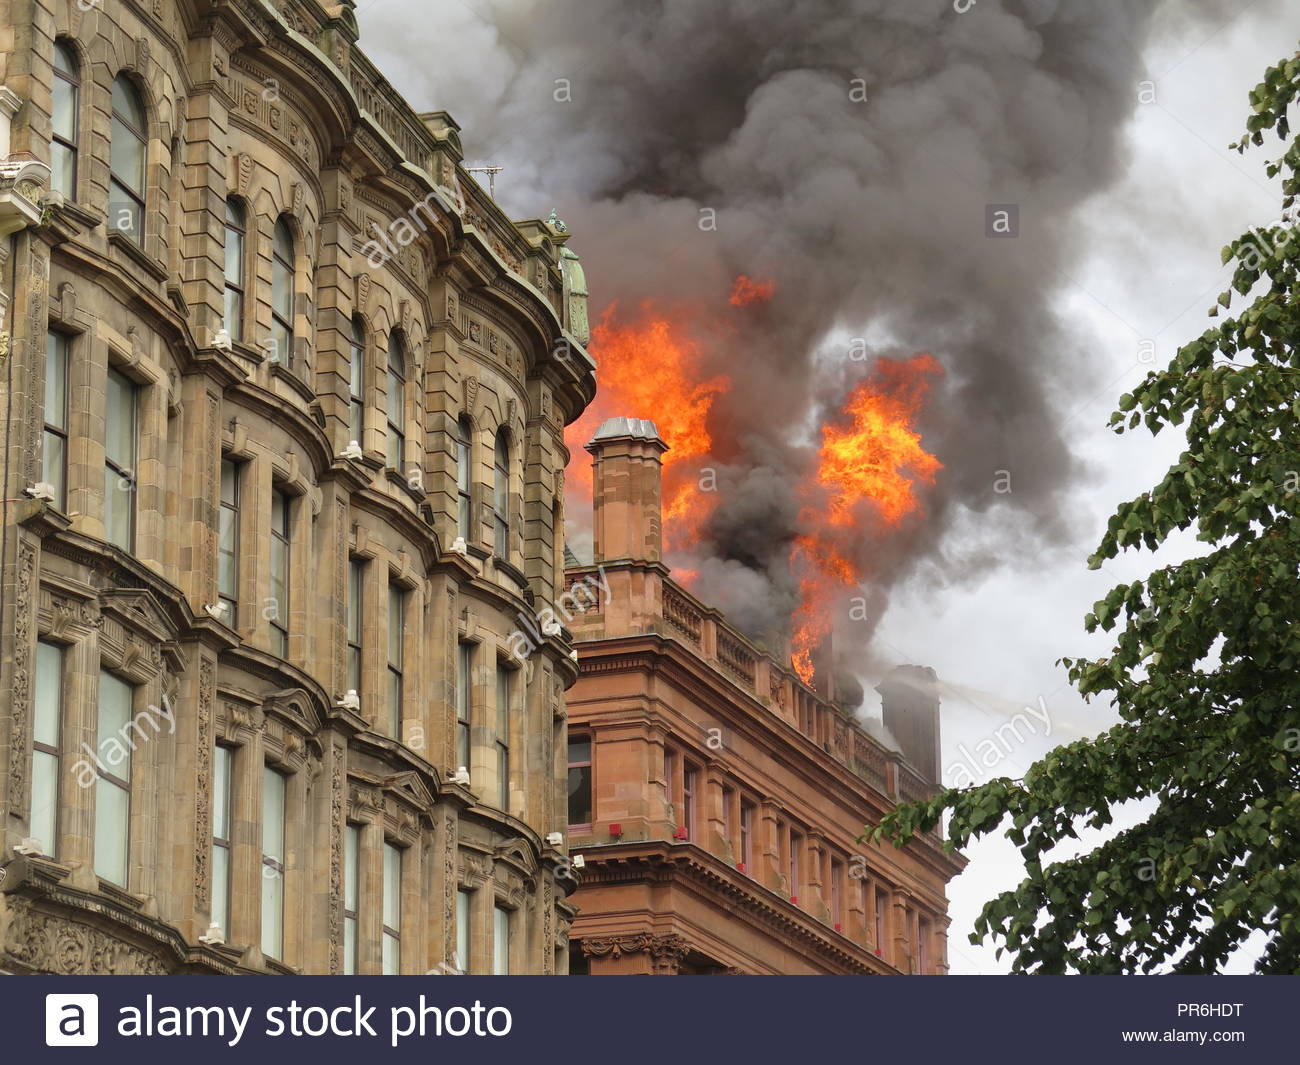fire: (793, 337, 939, 683), (584, 281, 730, 544)
smoke: (473, 3, 1156, 268), (950, 283, 1126, 560)
